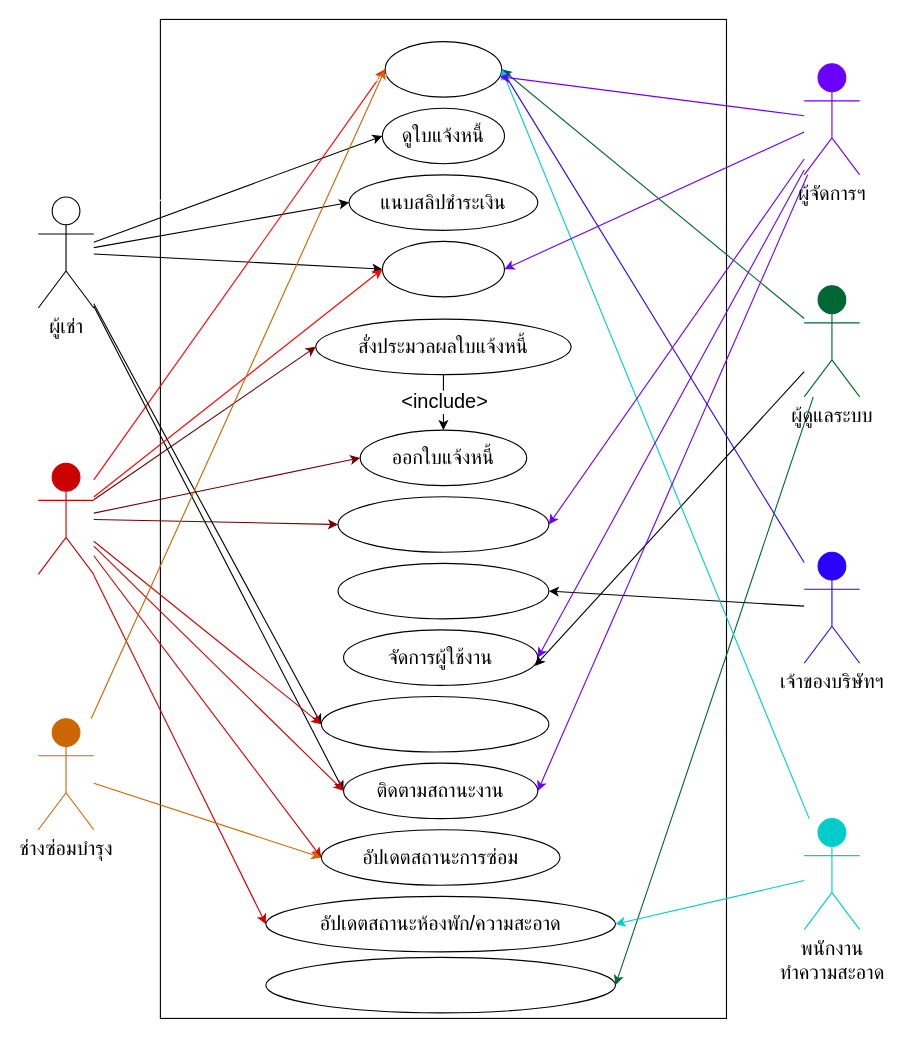
This 902x1038 diagram has some shape labels left out. Here are the shapes that lost their labels. From the top down, the centre of each, then its label:
At point 443,69: "เข้าสู่ระบบ".
At point 442,268: "แจ้งซ่อม".
At point 65,518: "พนักงานฯ".
At point 443,524: "ตรวจสอบการชำระเงิน".
At point 443,590: "ดูรายงานสรุปยอด".
At point 434,723: "แจ้งปัญหาความสะอาด".
At point 440,984: "จัดการความปลอดภัยและตั้งค่าระบบ".
